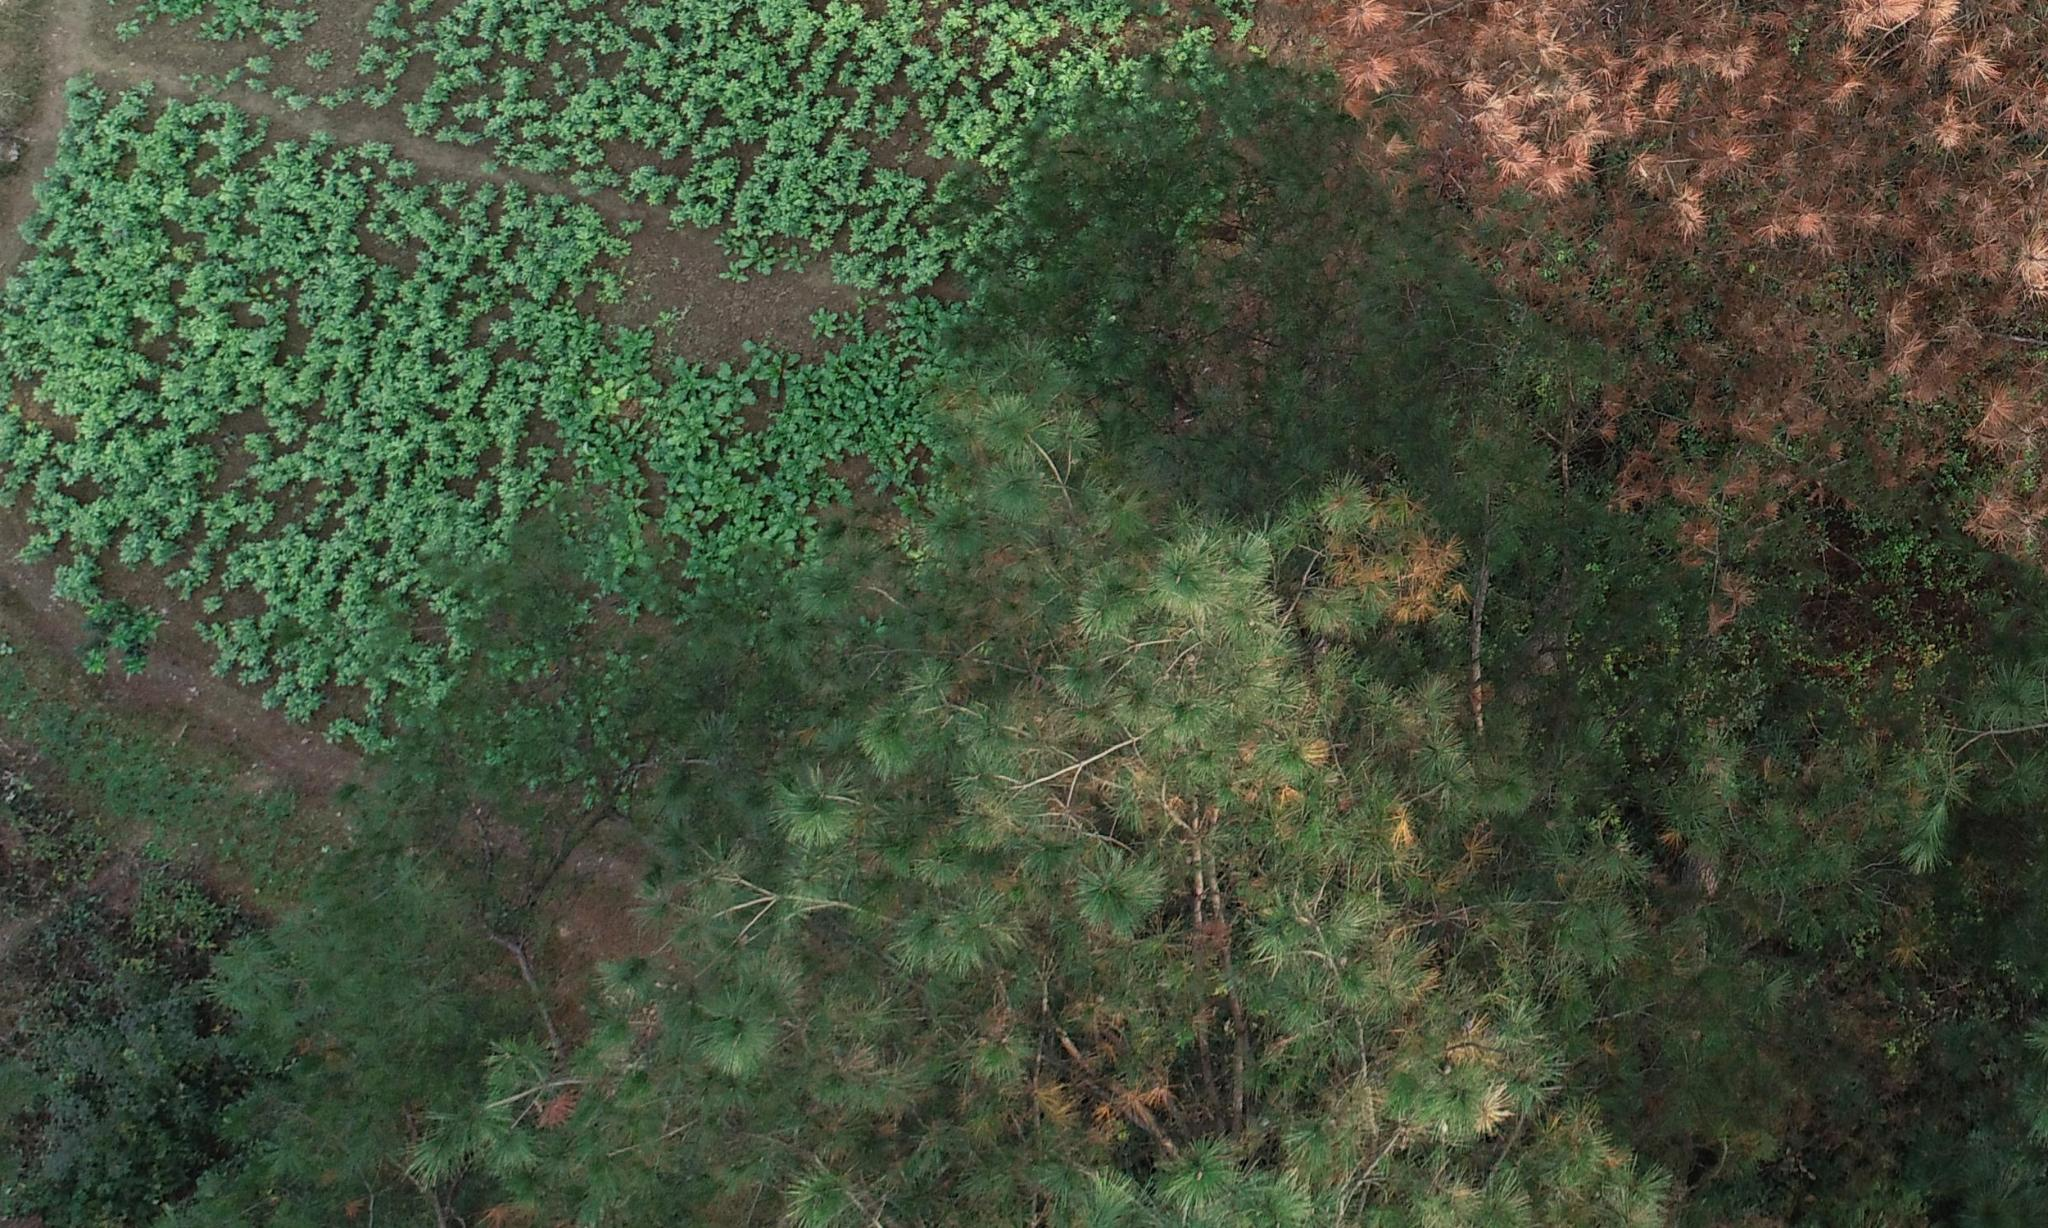heavy: (1300, 9, 2029, 465)
light: (855, 519, 1522, 1209)
